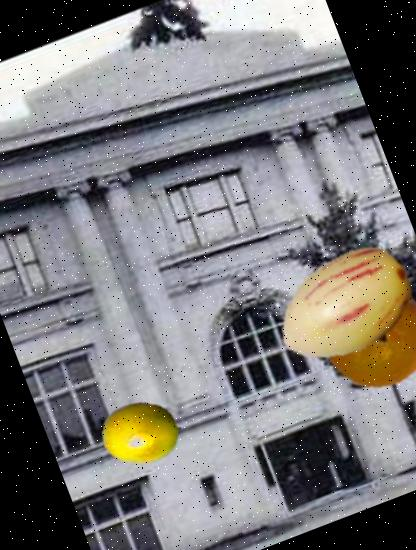Lemon: (307, 266, 416, 402)
Maracuja: (90, 382, 192, 484)
Pepino: (254, 216, 416, 401)
